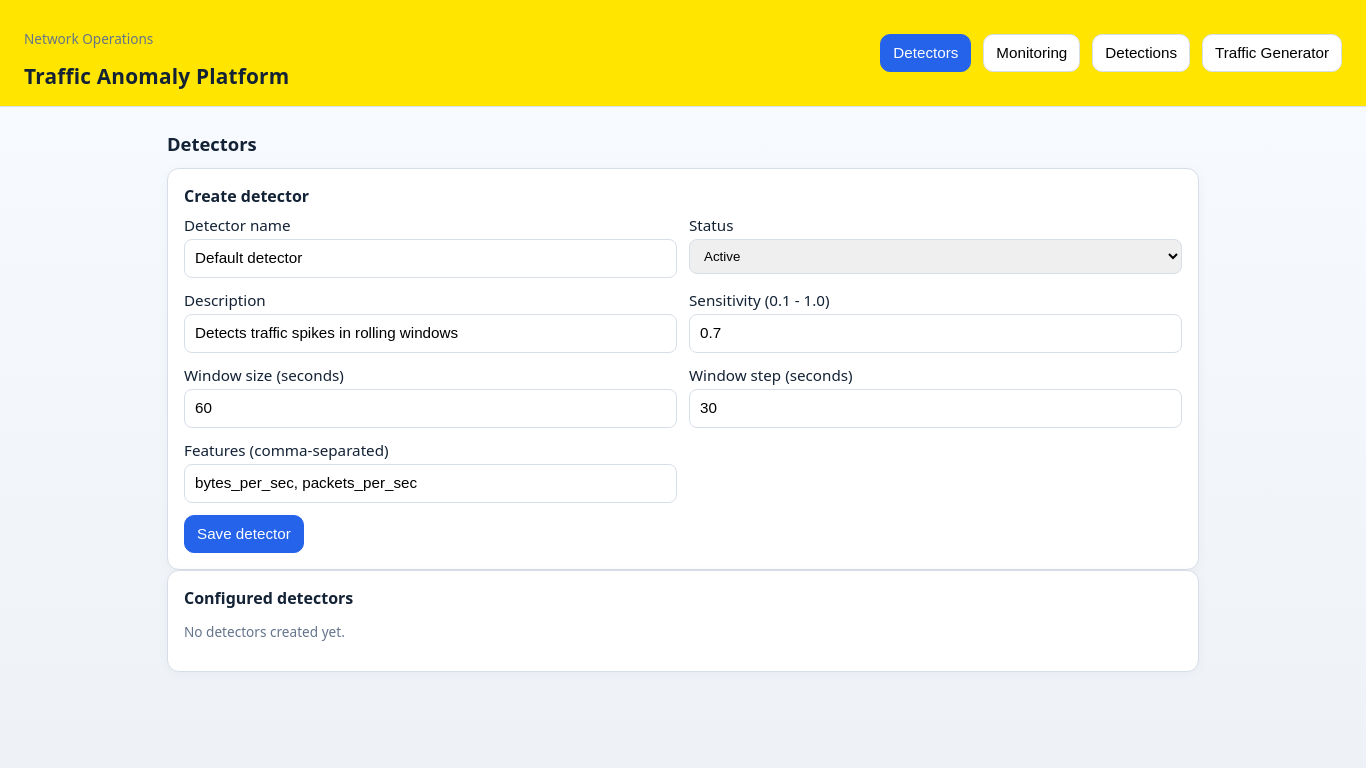
Test: switches between app sections from top navigation
Expected: the heading "Detectors" is shown, [167,130,257,156]
Click the button "Monitoring": [1032, 53] box [983,34,1080,72]
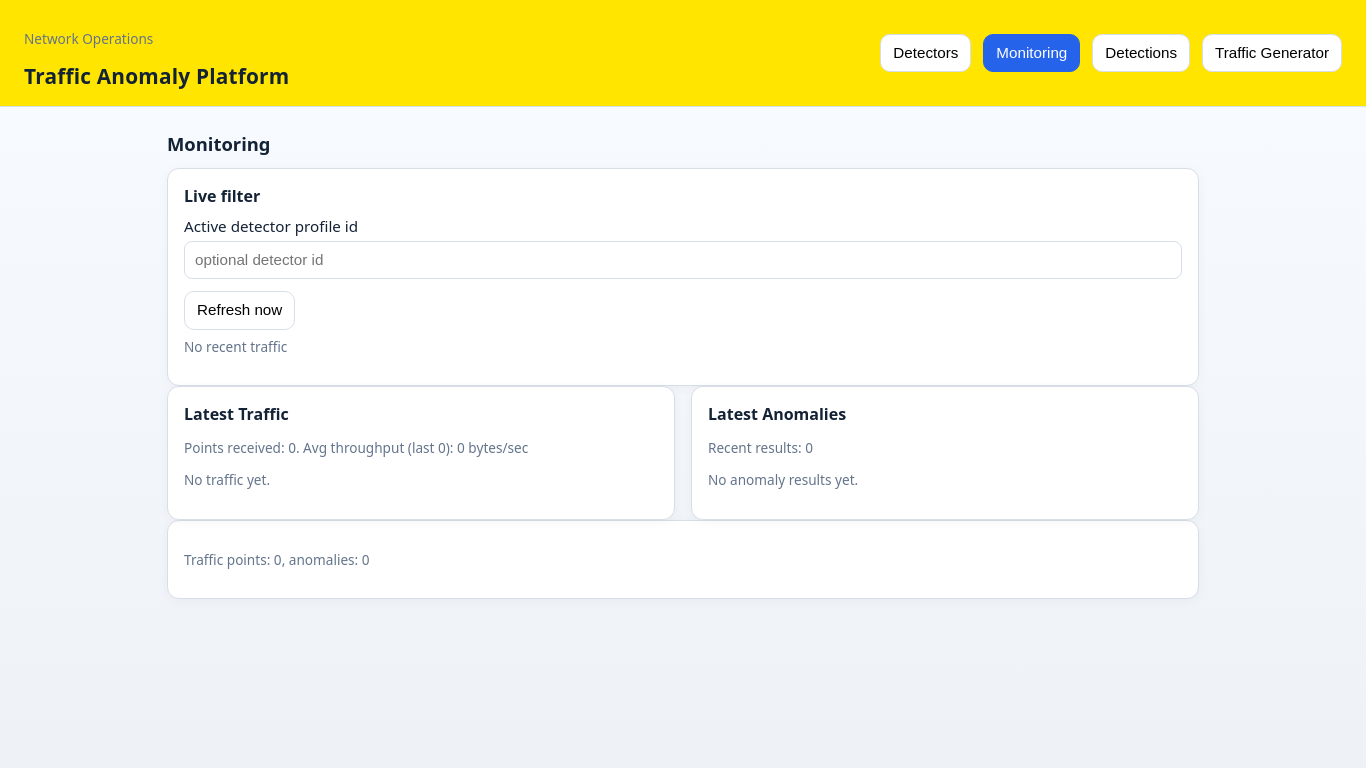
Now the heading "Monitoring" is shown, box [167,130,270,156]
Click the button "Detections": [1141, 53] box [1092,34,1190,72]
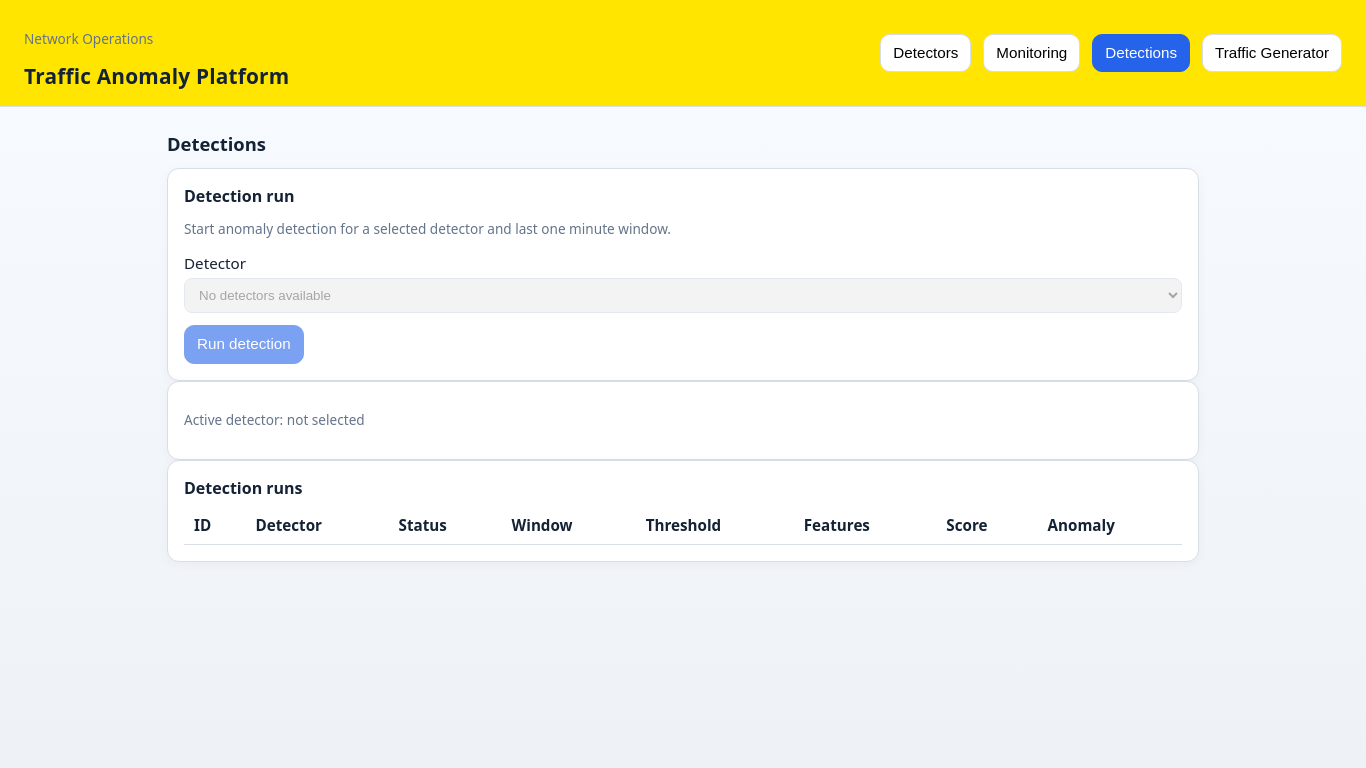
Now the heading "Detections" is shown, box [167,130,266,156]
Now the text "Active detector: not selected" is shown, box [184,410,365,429]
